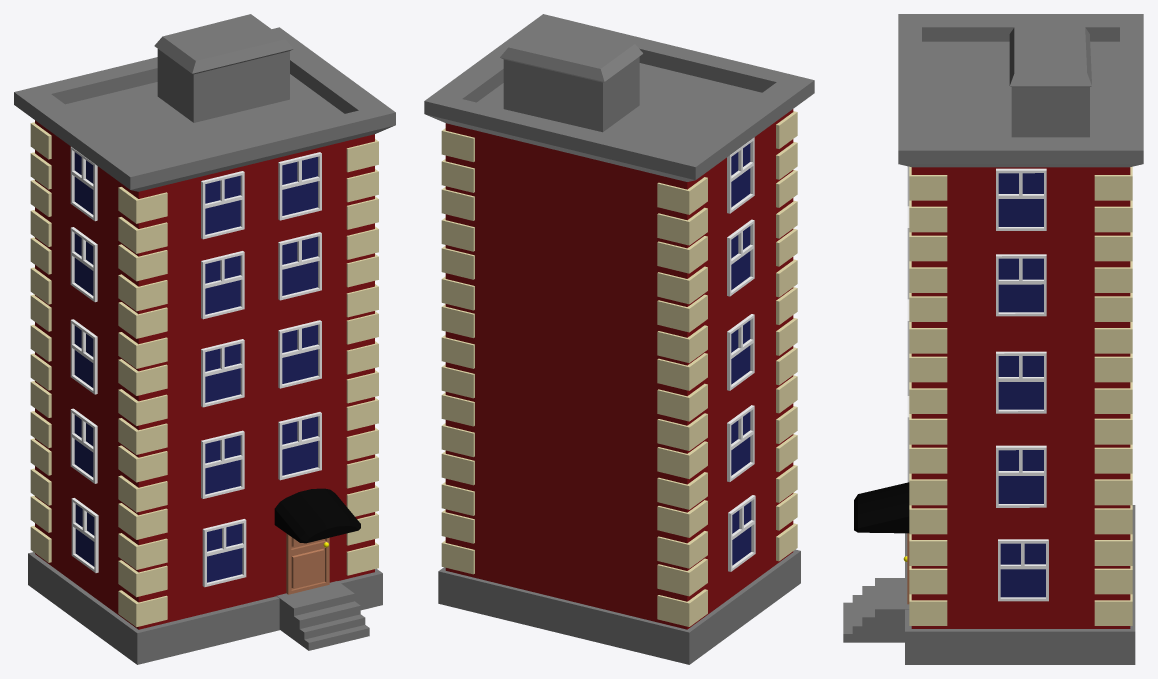
Rendered from Дом 1.fbx.
3 views of the same model, side by side, from view 1: azimuth 30°, elevation 25°; view 2: azimuth 150°, elevation 25°; view 3: azimuth 270°, elevation 25° (orthographic). The views are drawn at different scales.
Parts seen in each view (by area): view 1: Cube; view 2: Cube; view 3: Cube.
Part boxes in pixels (x1=…): Cube: x1=14, y1=14, x2=395, y2=664; Cube: x1=424, y1=14, x2=814, y2=664; Cube: x1=843, y1=14, x2=1143, y2=664.
Size of the model in its own units: 871 by 1688 by 808.
